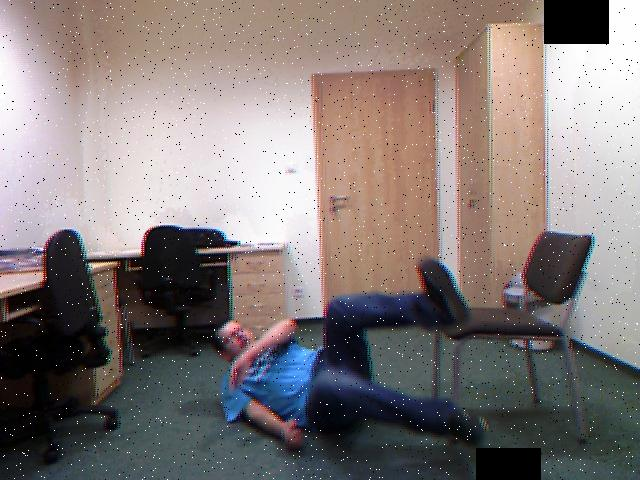fall: (205, 258, 499, 460)
